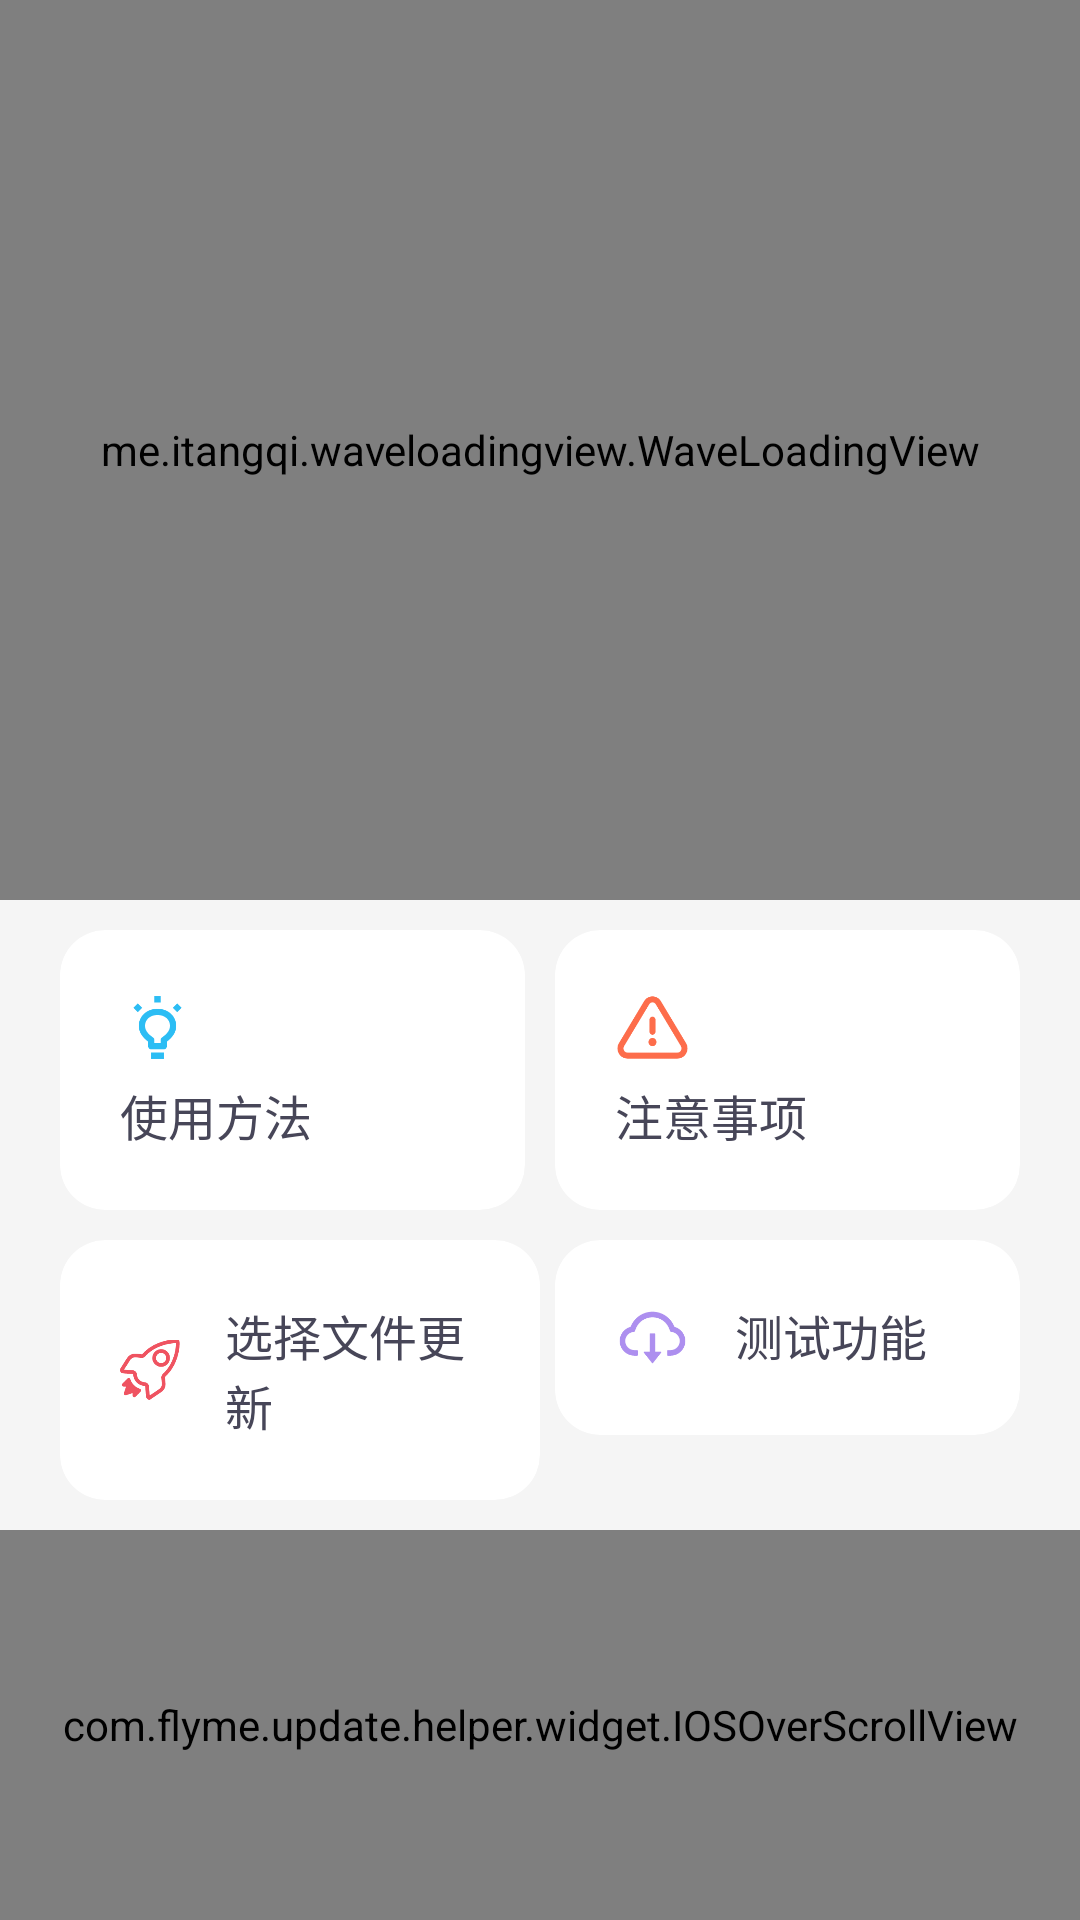

Where icons sit on this 1080x1920 app screen, as bbox=(x1, y1, x2, y2):
download: bbox=(620, 1311, 685, 1363)
idea: bbox=(133, 996, 182, 1059)
start: bbox=(120, 1340, 180, 1400)
waring: bbox=(617, 996, 688, 1059)
